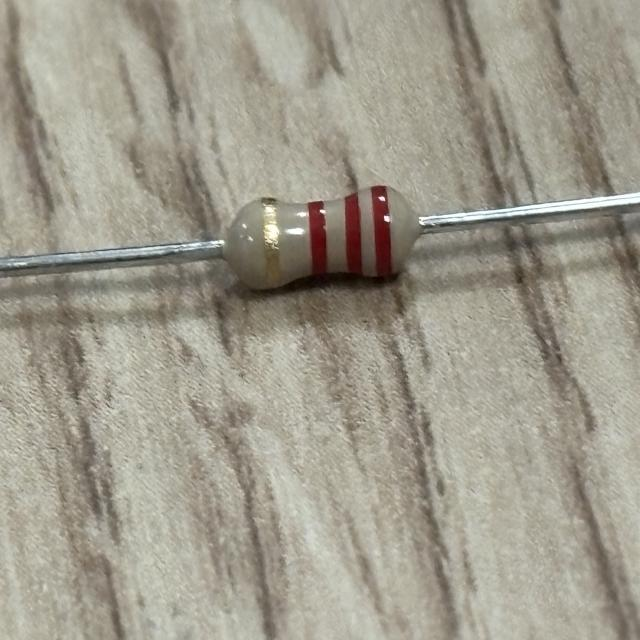resistor: (234, 181, 409, 298)
